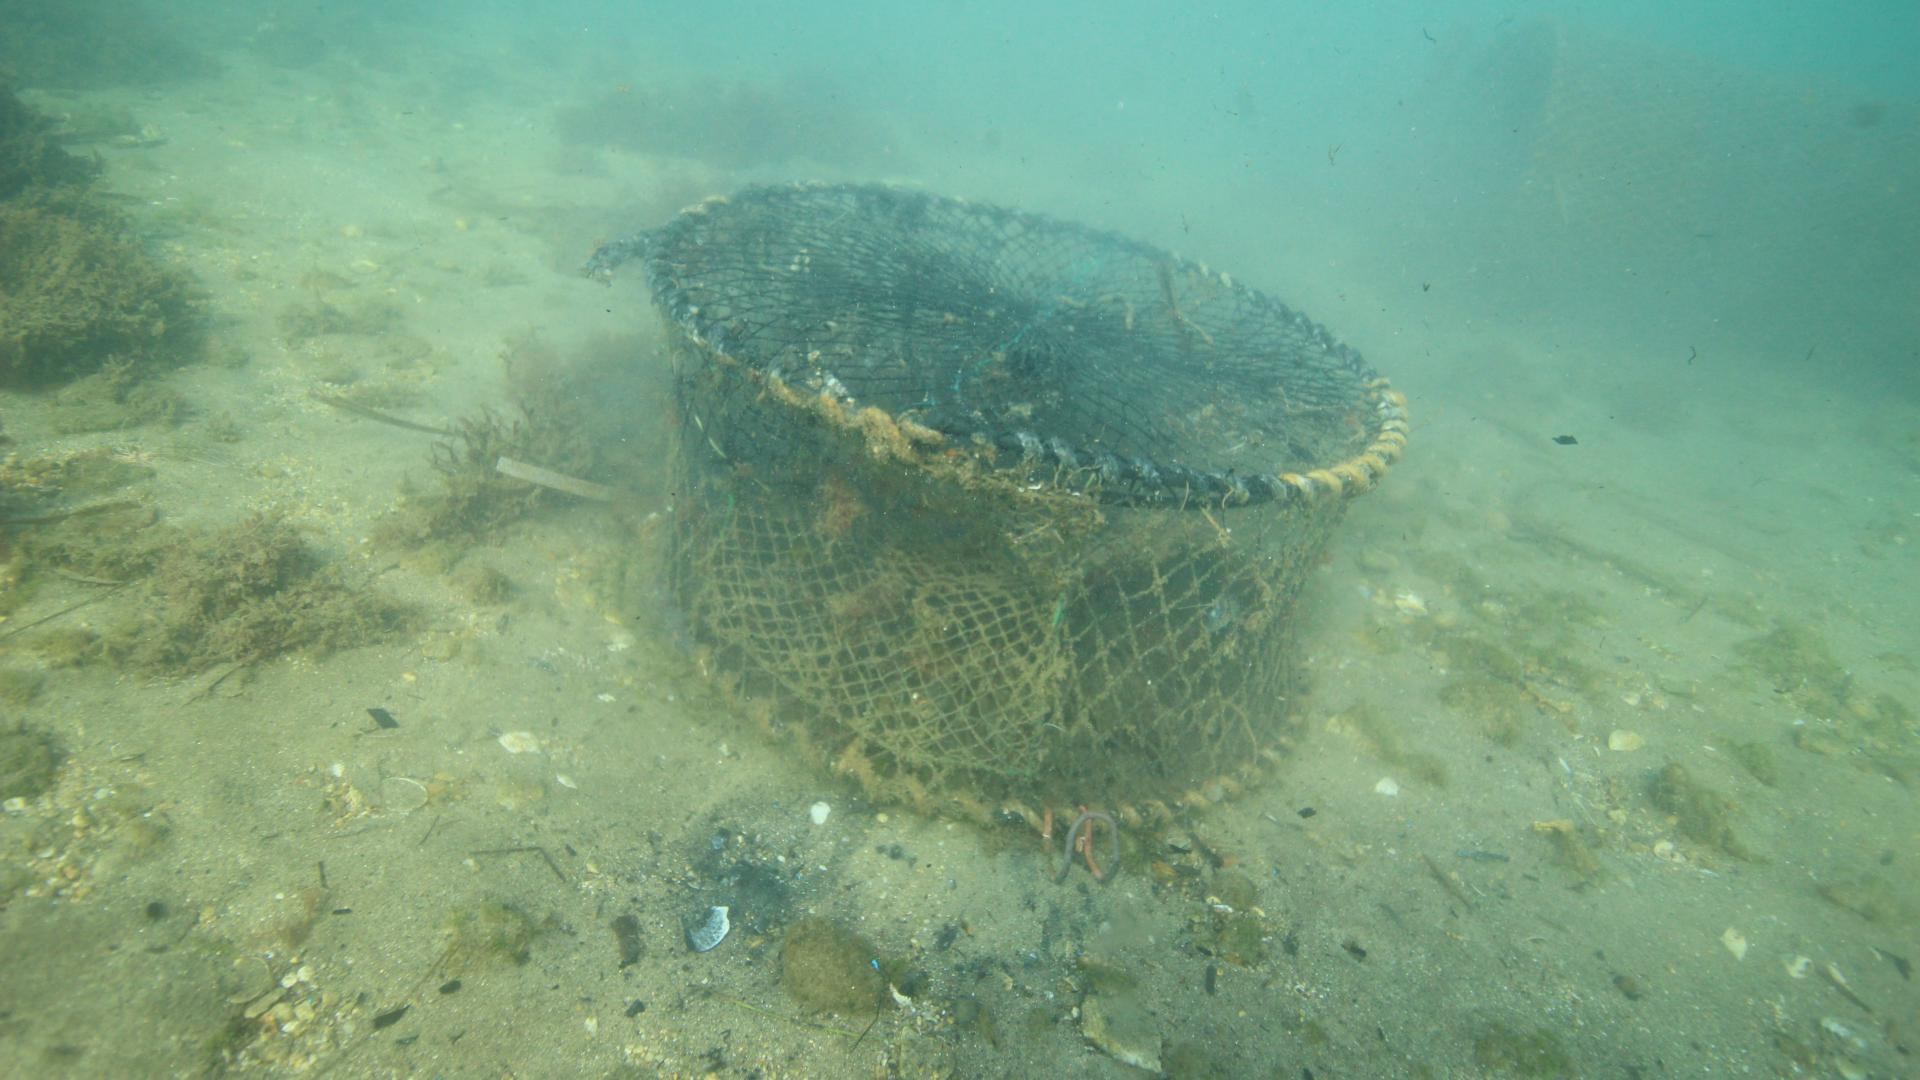circular fish trap: (641, 179, 1410, 837)
